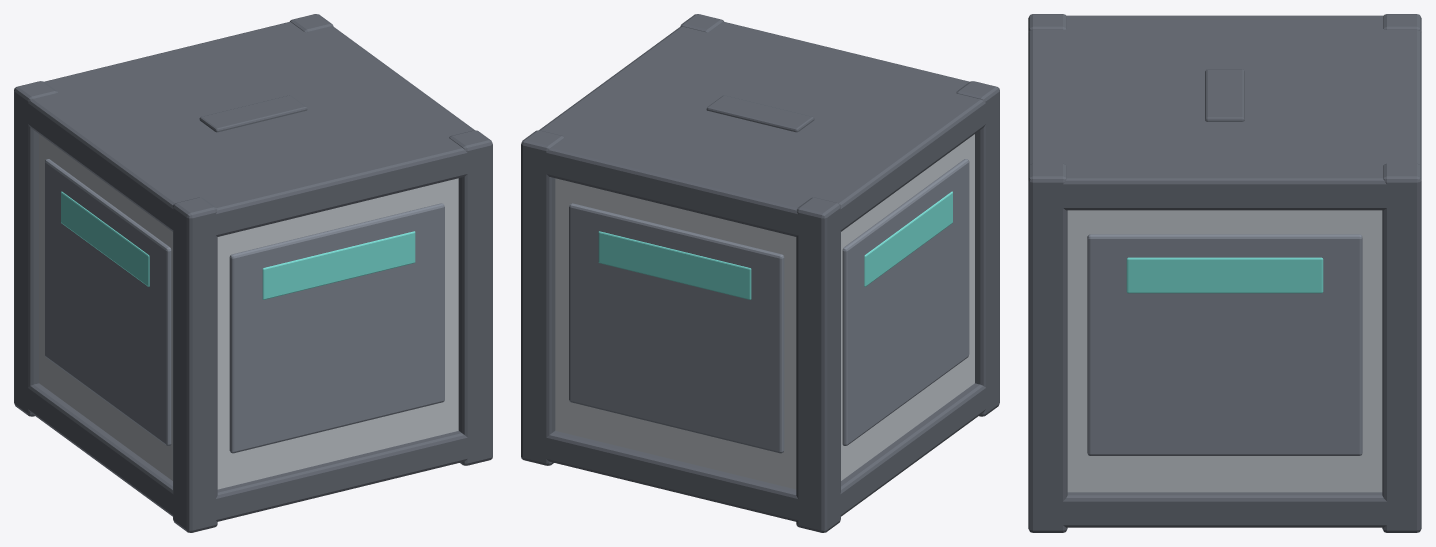
File: prop_crate.glb
The picture shows the model from 3 angles, left to right: view 1: azimuth 30°, elevation 25°; view 2: azimuth 150°, elevation 25°; view 3: azimuth 270°, elevation 25°; orthographic projection. The views are drawn at different scales.
Parts seen in each view (by area): view 1: prop_crate_v2; view 2: prop_crate_v2; view 3: prop_crate_v2.
Part boxes in pixels (x1,y1,x2,y2): prop_crate_v2: (14, 14, 492, 532); prop_crate_v2: (521, 14, 999, 532); prop_crate_v2: (1028, 14, 1421, 532).
Size of the model in its own units: 1 by 1 by 1.
